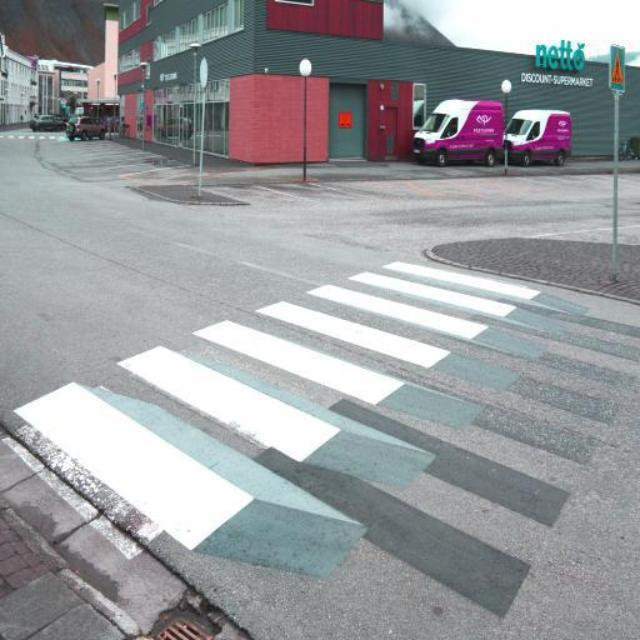sidewalk: (11, 260, 543, 554)
